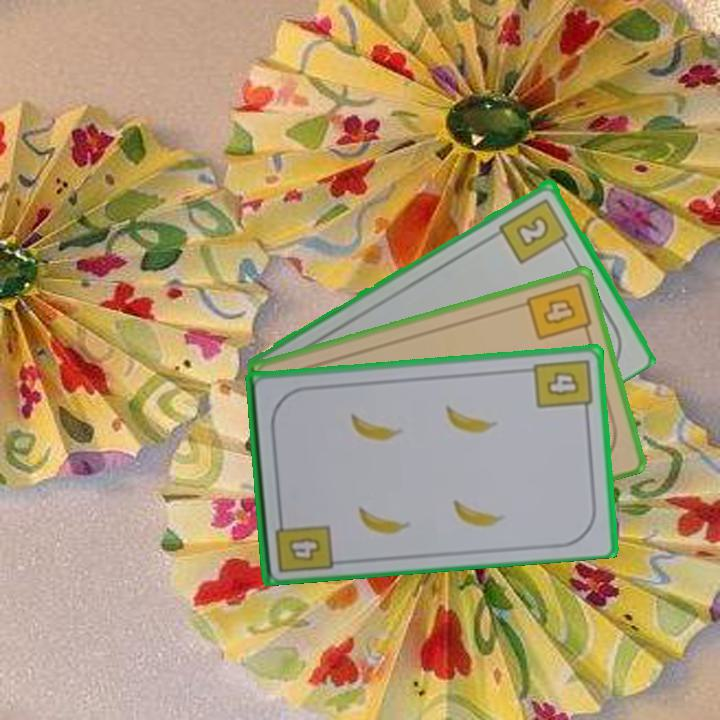2b: (496, 194, 573, 266)
4b: (523, 279, 594, 343), (271, 510, 335, 575), (530, 355, 595, 418)
